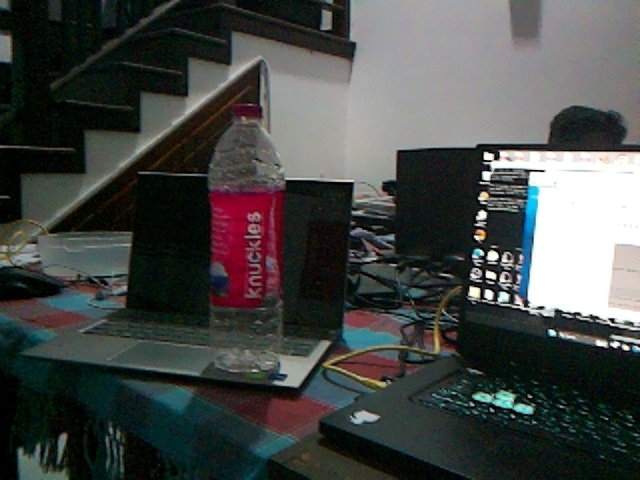bottle: (203, 102, 286, 376)
